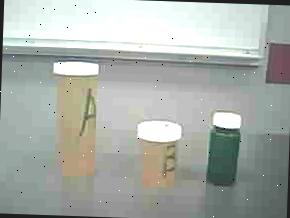Bottle A: (42, 56, 117, 184)
Bottle B: (130, 114, 188, 193)
Bottle C: (200, 106, 253, 196)
